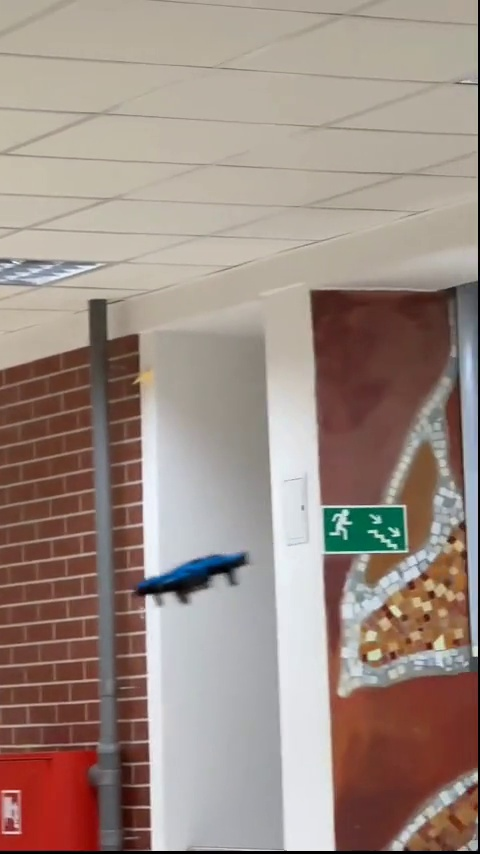drone: (137, 557, 268, 602)
